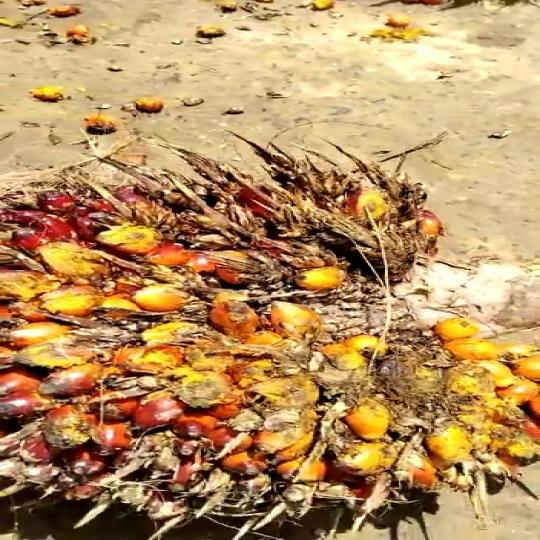masak: (0, 140, 540, 540)
